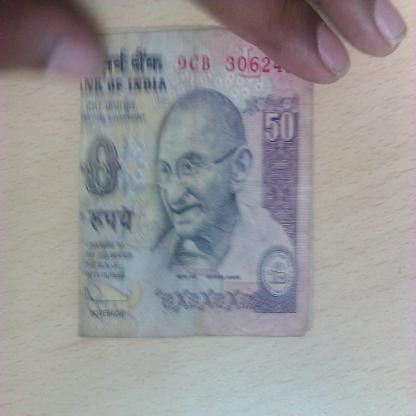Old50Front: (76, 25, 314, 339)
